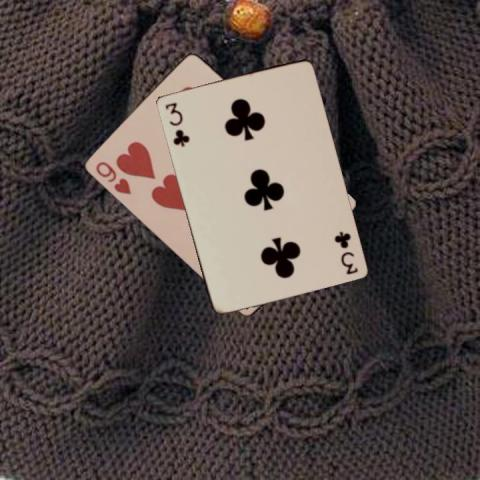3c: (161, 99, 191, 148), (332, 228, 359, 276)
9h: (93, 158, 134, 197)
